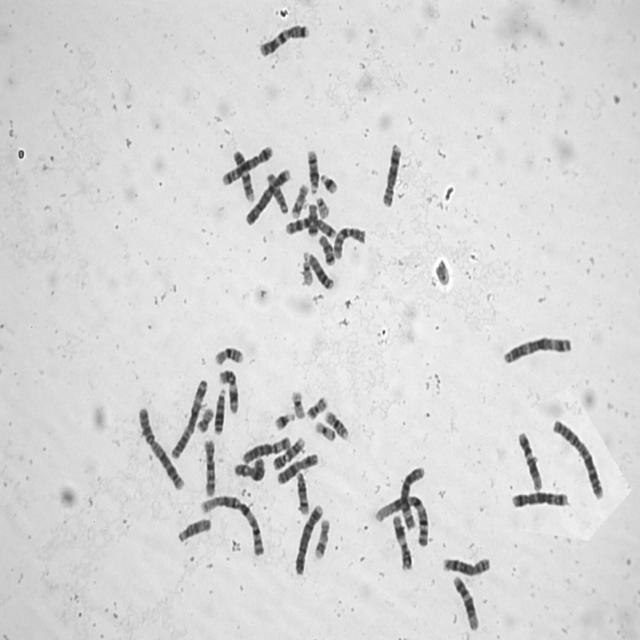A1: (196, 490, 266, 558), (370, 490, 430, 549)
A2: (548, 414, 606, 502), (134, 402, 184, 492)
A3: (168, 374, 210, 460), (499, 332, 574, 366)
B4: (242, 164, 292, 227), (291, 500, 325, 577)
B5: (219, 142, 274, 187), (509, 488, 570, 510)
C10: (331, 222, 366, 260), (200, 435, 217, 498)
C11: (390, 512, 413, 572), (216, 365, 240, 414)
C12: (514, 428, 544, 492), (450, 572, 480, 631)
C6: (398, 462, 426, 529), (240, 432, 292, 465)
C7: (256, 20, 310, 58), (282, 212, 337, 240)
C8: (378, 140, 403, 208), (439, 552, 492, 577)
C9: (230, 146, 256, 202), (269, 432, 306, 470)
D13: (300, 248, 334, 290), (211, 384, 227, 435)
D14: (292, 468, 310, 516), (304, 146, 320, 196)
D15: (264, 169, 290, 215), (174, 514, 212, 544)
E16: (322, 407, 349, 441), (211, 342, 245, 367)
E17: (311, 514, 331, 560), (288, 180, 310, 219)
E18: (316, 232, 336, 266), (304, 200, 319, 238)
F19: (288, 386, 306, 421), (312, 418, 336, 442)
F20: (304, 392, 328, 420), (193, 402, 214, 433)
G21: (271, 408, 296, 432), (317, 169, 339, 195)
G22: (299, 248, 313, 288), (312, 193, 330, 219)
X: (273, 449, 319, 486), (230, 453, 266, 482)
